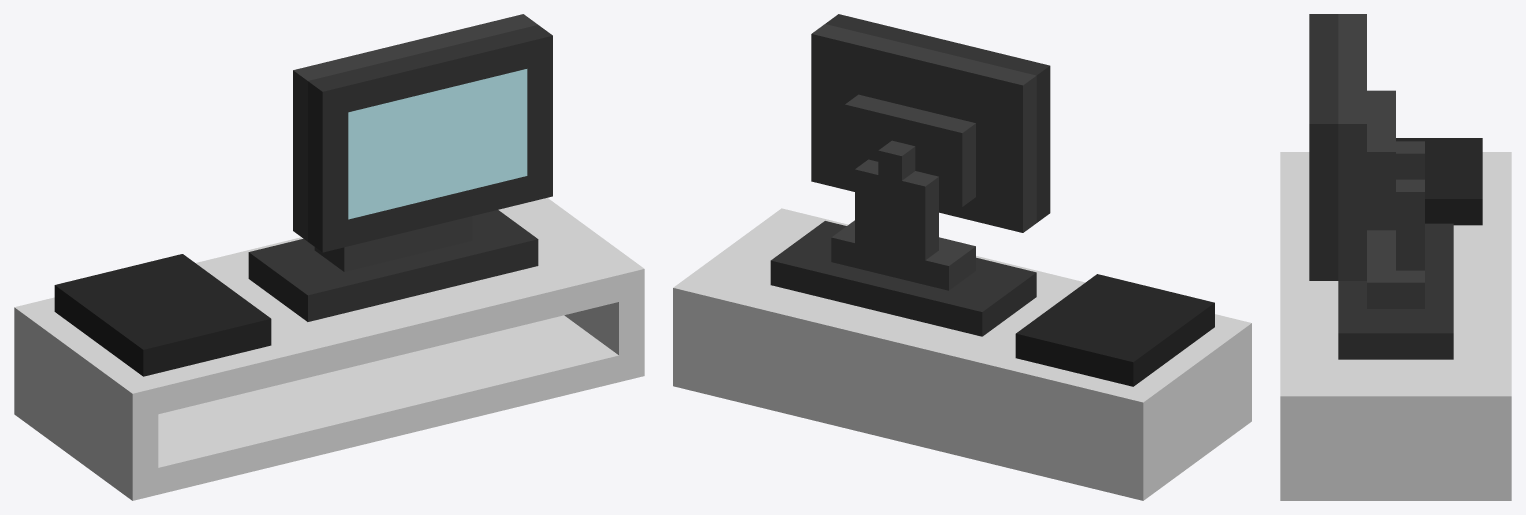
Rendered from TVtable.obj.
3 views of the same model, side by side, from view 1: azimuth 30°, elevation 25°; view 2: azimuth 150°, elevation 25°; view 3: azimuth 270°, elevation 25° (orthographic). The views are drawn at different scales.
Size of the model in its own units: 2 by 1.3 by 0.8.
